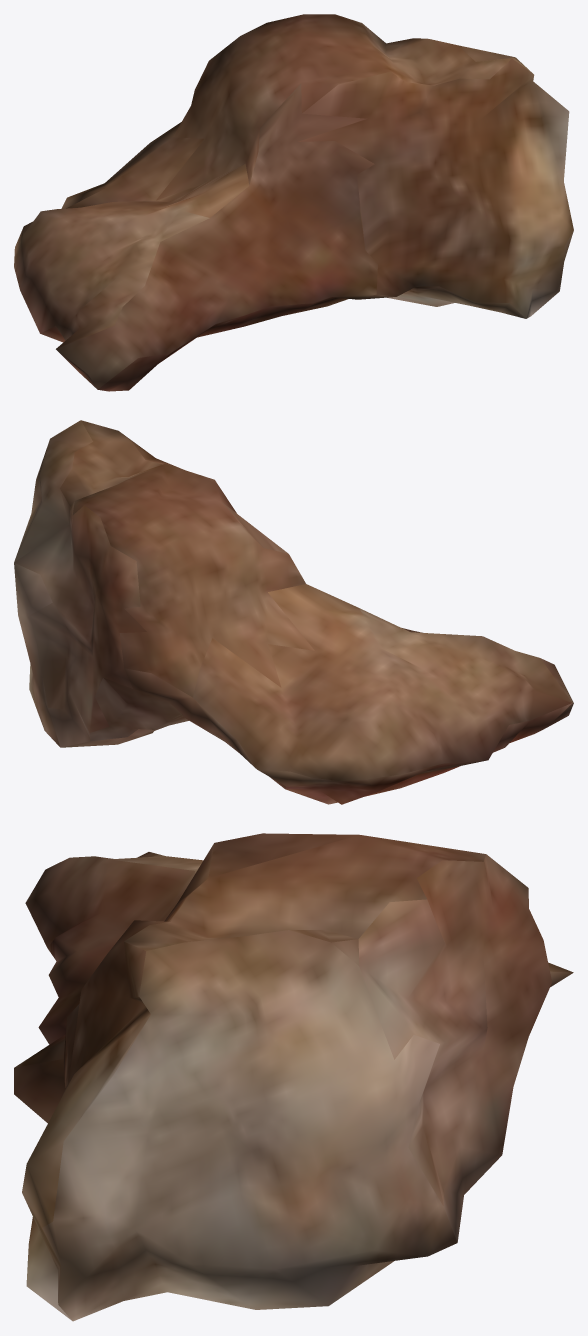
File: ph_rock_5.glb
3 renders of one model, top to bottom at view 1: azimuth 30°, elevation 25°; view 2: azimuth 150°, elevation 25°; view 3: azimuth 270°, elevation 25°, orthographic. The views are drawn at different scales.
Parts seen in each view (by area): view 1: ph_rock_5_lod1; view 2: ph_rock_5_lod1; view 3: ph_rock_5_lod1.
Boxes of the visible parts, x1=… form: ph_rock_5_lod1: x1=14, y1=14, x2=573, y2=391; ph_rock_5_lod1: x1=14, y1=420, x2=573, y2=804; ph_rock_5_lod1: x1=14, y1=833, x2=573, y2=1321.
Bounding box in the file's own units: 0.147 × 0.0709 × 0.0888.
Materials: 1 (1 with a texture image).
